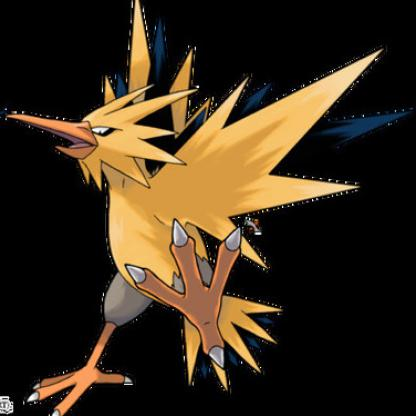Zapdos: (9, 1, 415, 416)
